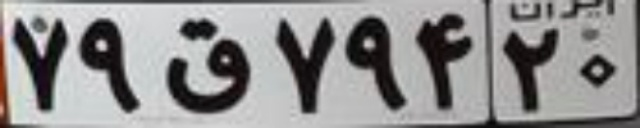0: (574, 53, 621, 88)
2: (501, 28, 564, 113)
4: (416, 13, 474, 109)
7: (271, 17, 338, 114), (8, 16, 70, 112)
9: (76, 17, 143, 111), (346, 17, 408, 110)
ghaf: (161, 15, 254, 114)
